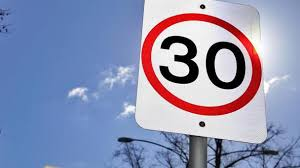Speed_limit_30km: (142, 12, 263, 115)
